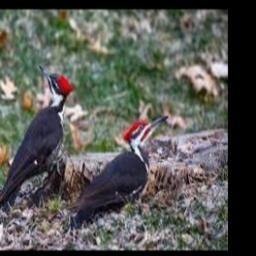Woodpecker: (0, 66, 75, 216), (65, 115, 168, 218)
